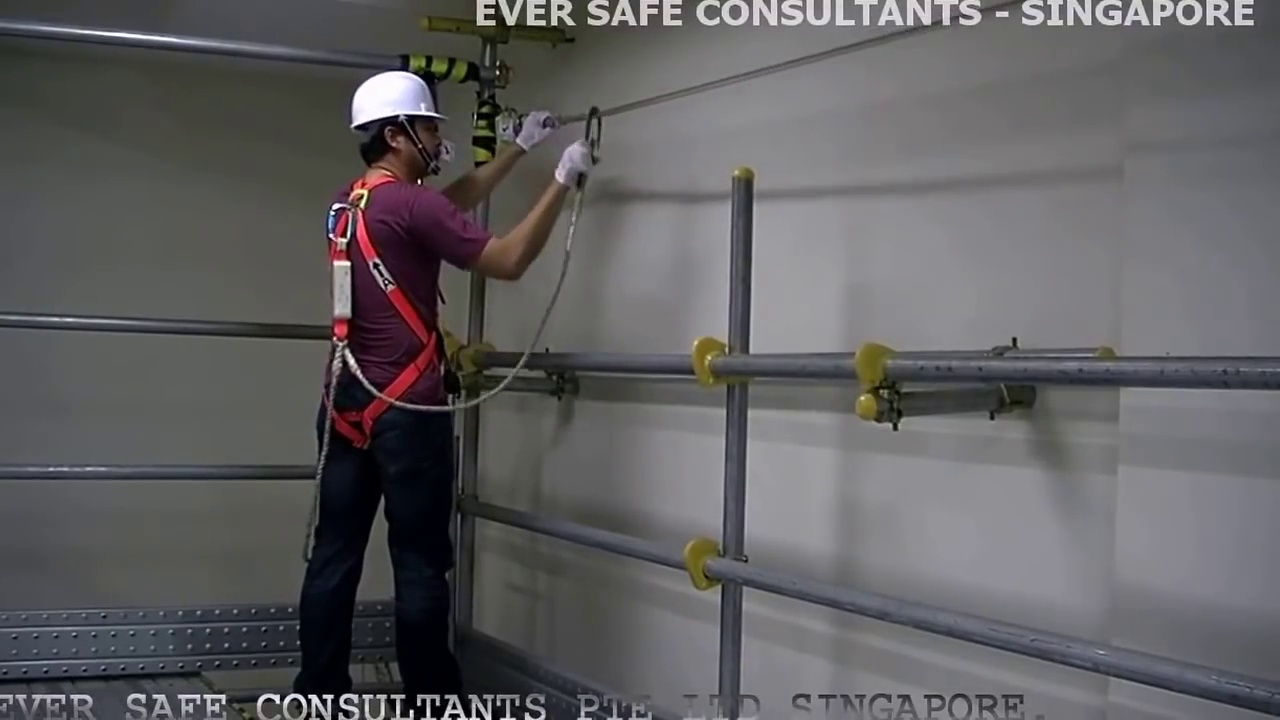harness: (314, 180, 423, 442)
helmet: (344, 71, 447, 125)
hook: (580, 102, 610, 162)
leash: (444, 284, 569, 416)
